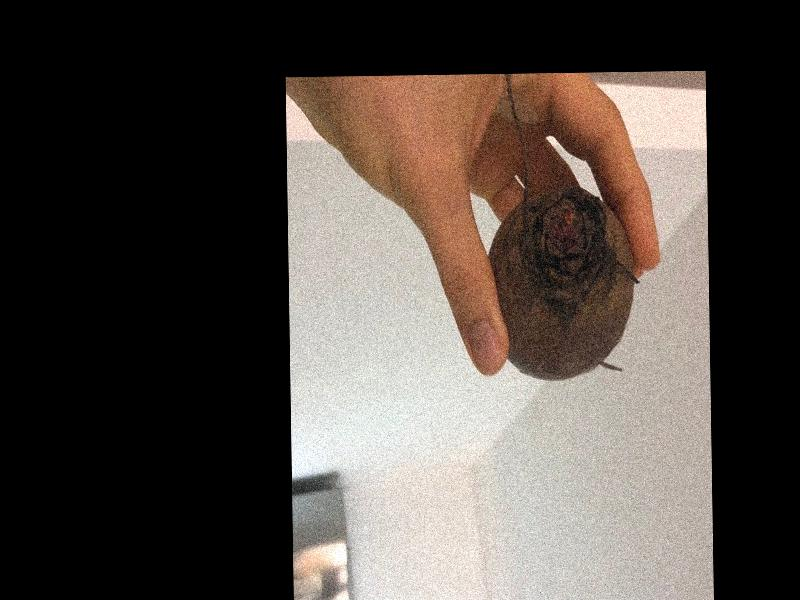Beet: (483, 73, 641, 383)
